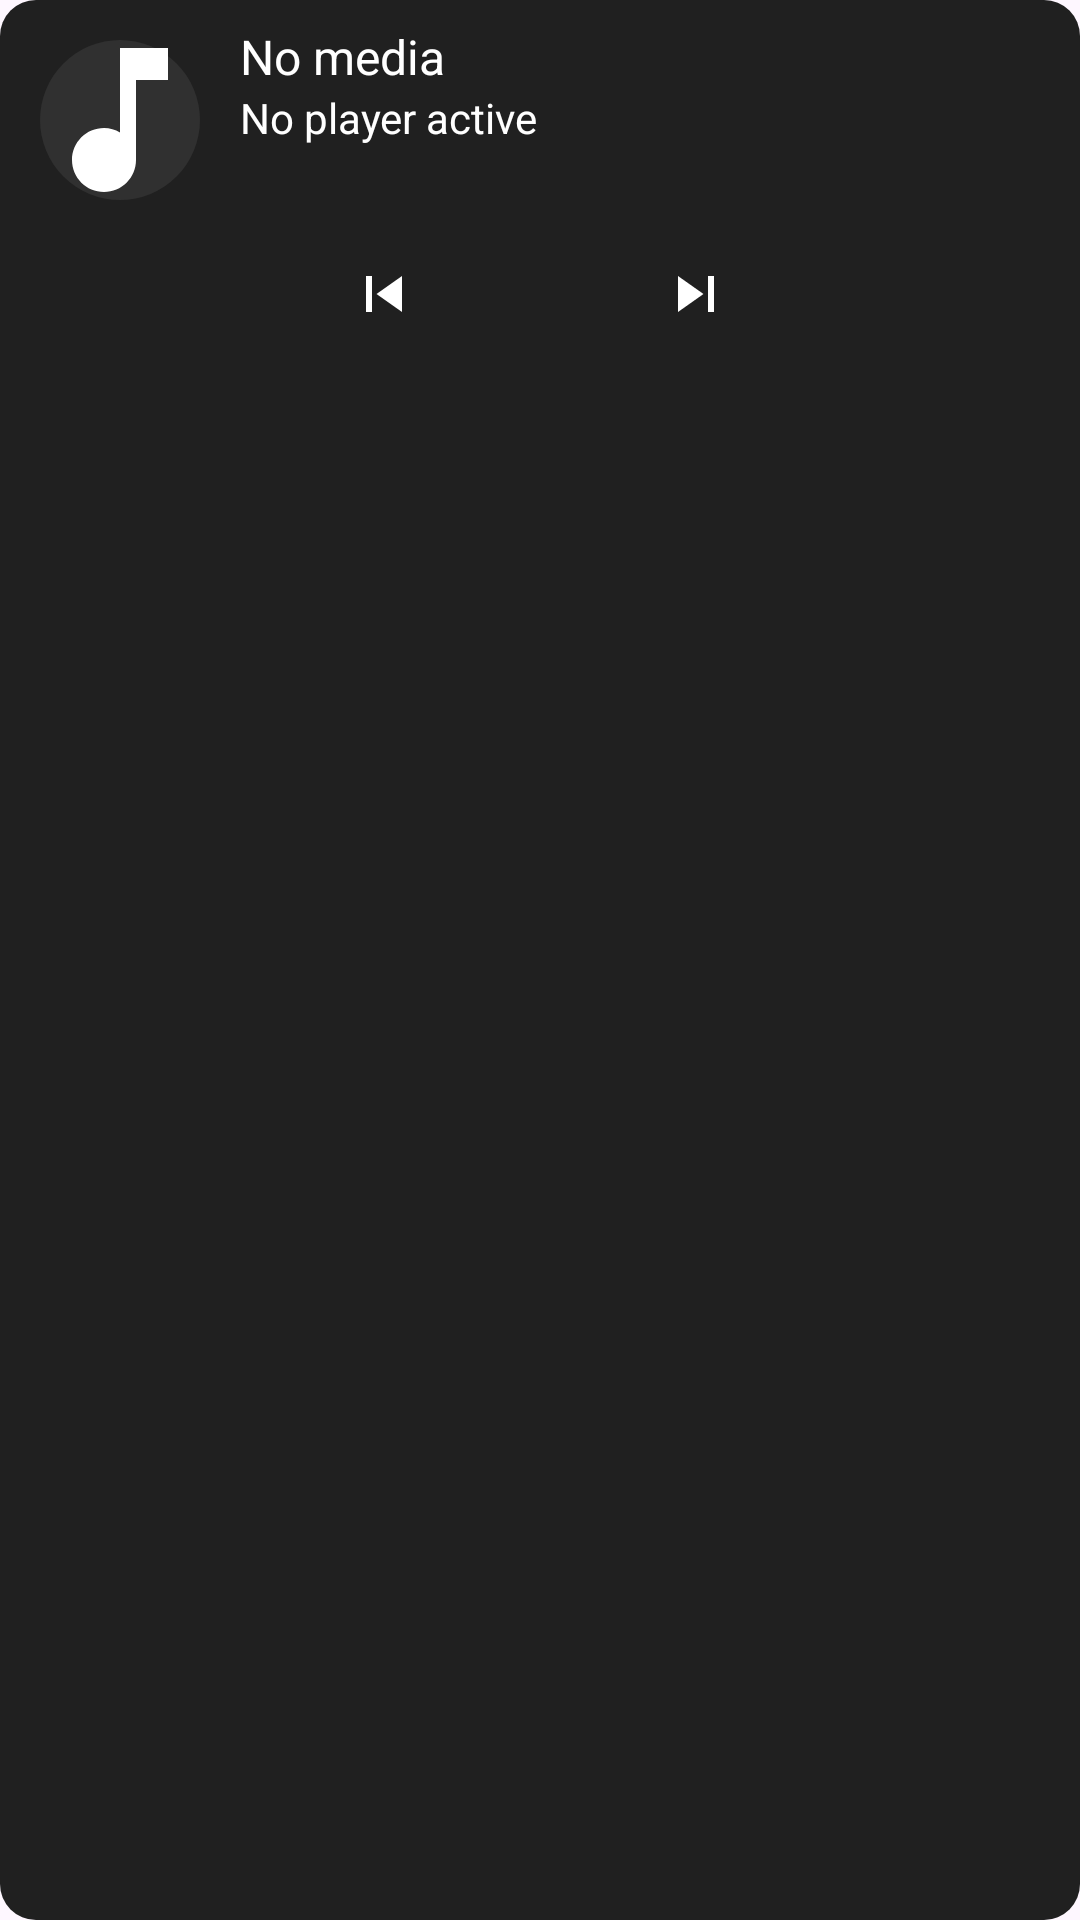

Screen size 1080x1920. Icon name, then its center in pixels as (x=x, y=y):
Next track: (x=696, y=294)
Previous track: (x=384, y=294)
